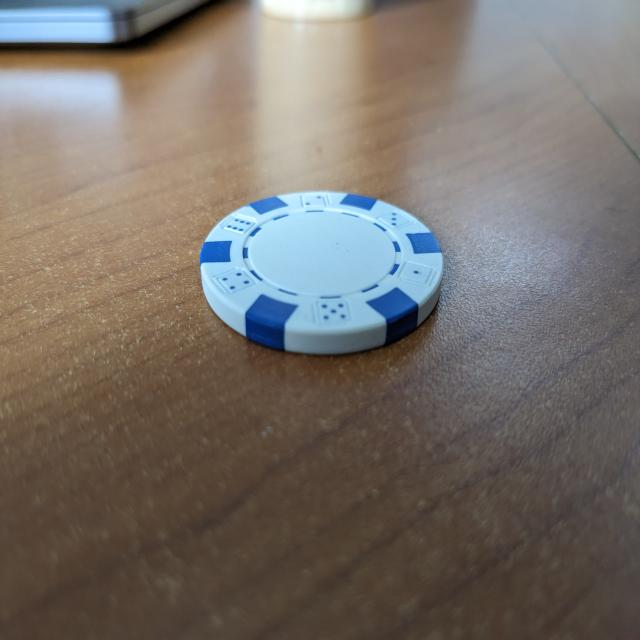white chip: (199, 191, 445, 358)
